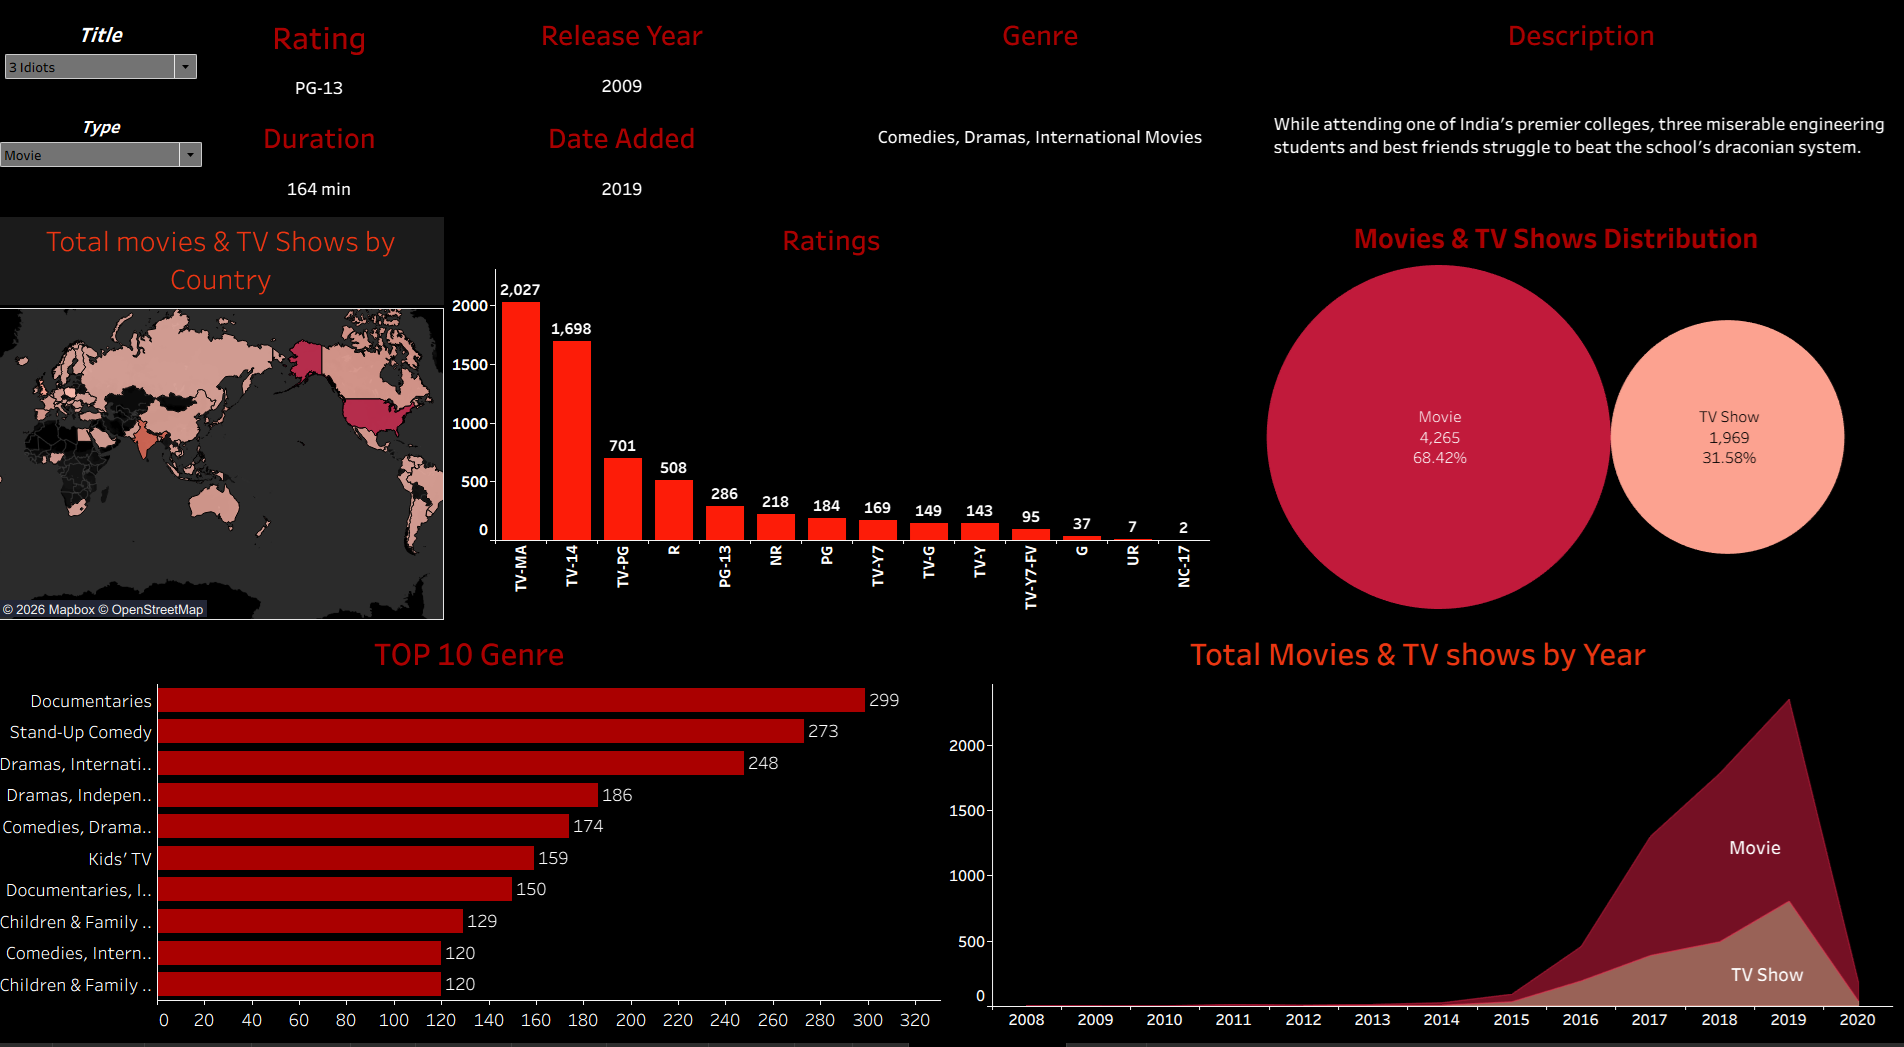

This screenshot's page, from the dashboard's own definition file:
{"tool":"tableau","page":{"name":"netflix dashboard","canvas":[1000,1000],"units":"permille","ordinal":0},"visuals":[{"type":"filter","title":"description","param":"[federated.1lhsoqa06208vk15x9exj190or2u].[none:title:nk]","box":[4.7,8.8,112.4,98.2]},{"type":"worksheet","title":"rating","mark":"Automatic","box":[117.1,8.8,114.2,98.2]},{"type":"worksheet","title":"release year","mark":"Automatic","box":[231.3,8.8,200.3,98.2]},{"type":"worksheet","title":"genre","mark":"Automatic","box":[431.7,8.8,235,196.4]},{"type":"worksheet","title":"description","mark":"Automatic","box":[666.6,8.8,328.7,196.4]},{"type":"filter","title":"date added","param":"[federated.1lhsoqa06208vk15x9exj190or2u].[none:type:nk]","box":[4.7,106.9,112.4,98.2]},{"type":"worksheet","title":"Duaration","mark":"Automatic","box":[117.1,106.9,114.2,98.2]},{"type":"worksheet","title":"date added","mark":"Automatic","box":[231.3,106.9,200.3,98.2]},{"type":"worksheet","title":"by country","mark":"Multipolygon","box":[4.7,205.2,266.6,392.9]},{"type":"worksheet","title":"ratings","mark":"Automatic","rows":["show_id"],"cols":["rating"],"box":[271.2,205.2,368.8,392.9]},{"type":"worksheet","title":"distribution","mark":"Circle","box":[640,205.2,355.3,392.9]},{"type":"worksheet","title":"top 10 genre","mark":"Automatic","rows":["listed_in"],"cols":["show_id"],"box":[4.7,598.1,495.2,393.1]},{"type":"worksheet","title":"by year","mark":"Area","rows":["show_id"],"cols":["date_added"],"box":[499.9,598.1,495.4,393.1]}]}

Visuals, with their boxes on the dashboard's canvas, which has no fixed pixel size, in thousandths of its width and height (x1, y1, x2, y2). These are canvas units, not pixel positions in the 1904x1047 screenshot, which may show the page scaled, cropped or inside an application window:
"description" filter: [left=5, top=9, right=117, bottom=107]
"rating" worksheet: [left=117, top=9, right=231, bottom=107]
"release year" worksheet: [left=231, top=9, right=432, bottom=107]
"genre" worksheet: [left=432, top=9, right=667, bottom=205]
"description" worksheet: [left=667, top=9, right=995, bottom=205]
"date added" filter: [left=5, top=107, right=117, bottom=205]
"Duaration" worksheet: [left=117, top=107, right=231, bottom=205]
"date added" worksheet: [left=231, top=107, right=432, bottom=205]
"by country" worksheet (Multipolygon marks): [left=5, top=205, right=271, bottom=598]
"ratings" worksheet: [left=271, top=205, right=640, bottom=598]
"distribution" worksheet (Circle marks): [left=640, top=205, right=995, bottom=598]
"top 10 genre" worksheet: [left=5, top=598, right=500, bottom=991]
"by year" worksheet (Area marks): [left=500, top=598, right=995, bottom=991]
